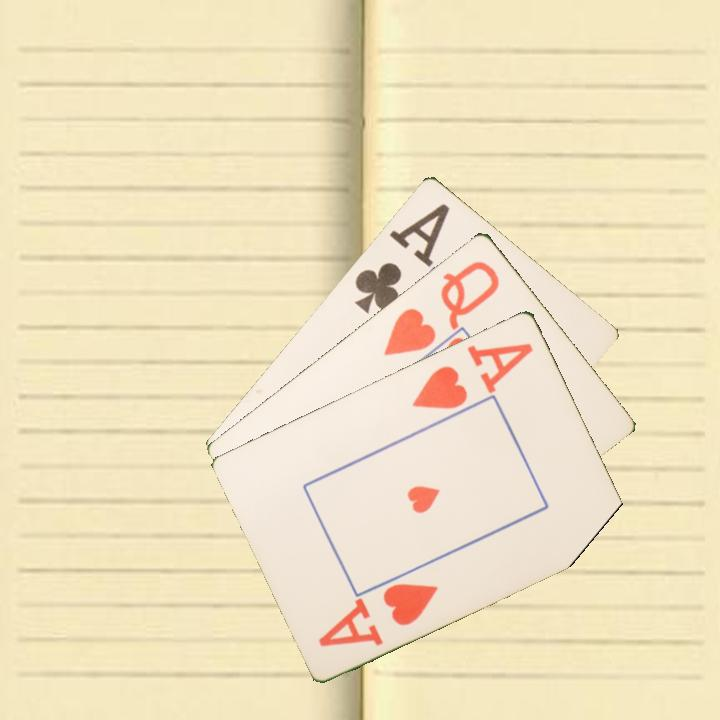Ac: (350, 198, 454, 316)
Ah: (408, 339, 536, 412), (315, 579, 441, 649)
Qh: (380, 256, 503, 359)
